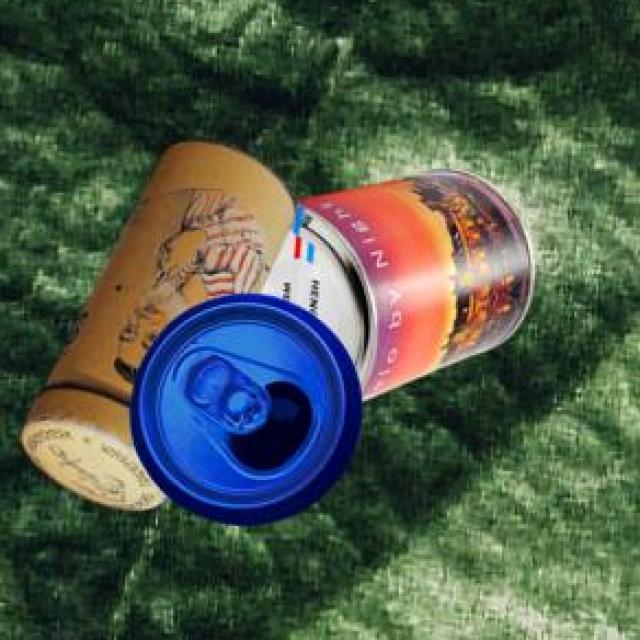logam: (19, 137, 293, 507), (255, 165, 532, 398), (128, 290, 358, 523)
